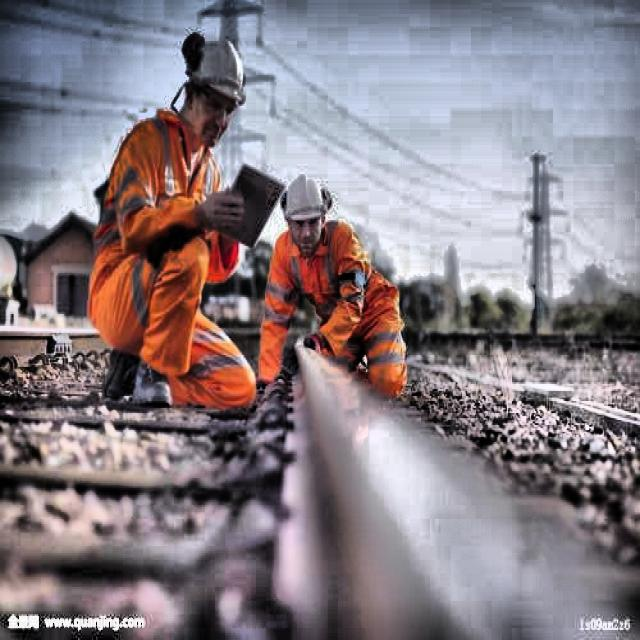helmet: (179, 29, 255, 155), (283, 164, 333, 254)
